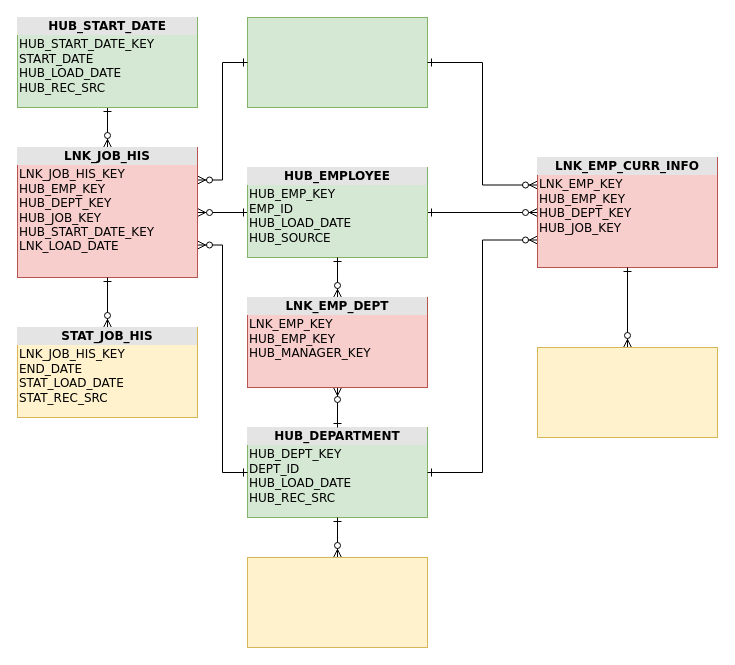
The diagram is 735 pixels wide and 665 high, and some of its shapes have lost their labels. Each missing label, with the box of its shape:
HUB_JOB HUB_JOB_KEY JOB_ID HUB_LOAD_DATE HUB_REC_SRC: (246, 16, 428, 108)
STAT_DEPARTMENT STAT_DEPT_KEY DEPT_ID DEPT_NAME STAT_LOAD_DATE STAT_REC_SRC: (246, 556, 428, 648)
STAT_EMPLOYEE STAT_DEPT_KEY DEPT_ID DEPT_NAME STAT_LOAD_DATE STAT_REC_SRC: (536, 346, 718, 438)
